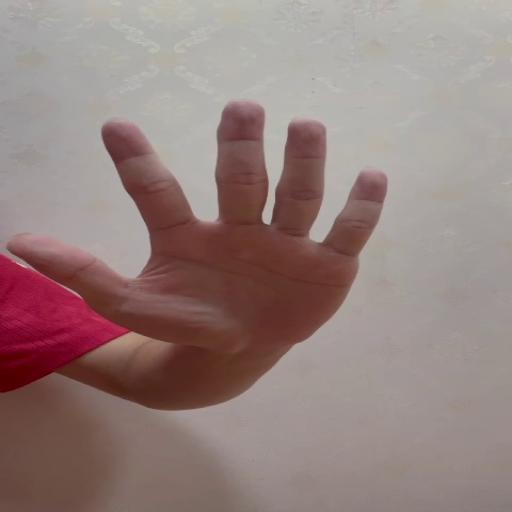open_palm: (7, 96, 390, 354)
